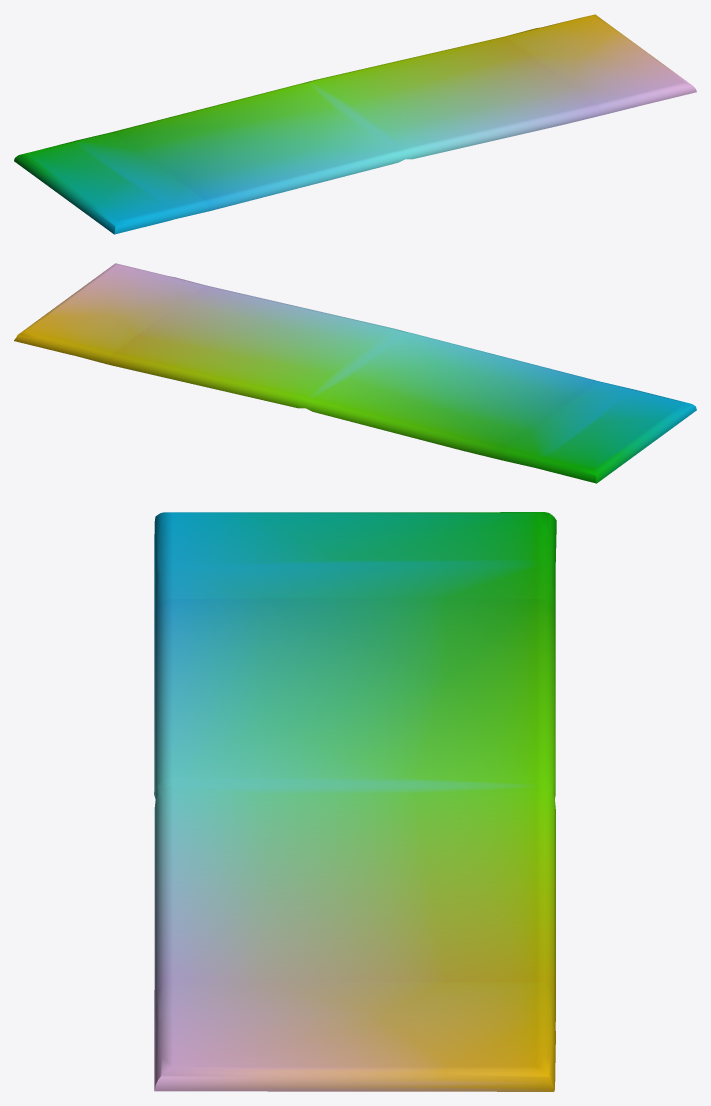
The model's file is SM_ROAD_37_10_0_37_meshed_inter.FBX.
3 renders of one model, top to bottom at view 1: azimuth 30°, elevation 25°; view 2: azimuth 150°, elevation 25°; view 3: azimuth 270°, elevation 25°, orthographic. The views are drawn at different scales.
Parts seen in each view (by area): view 1: SM_ROAD_37_10_0_37_meshed_inter; view 2: SM_ROAD_37_10_0_37_meshed_inter; view 3: SM_ROAD_37_10_0_37_meshed_inter.
Part boxes in pixels (<box>): SM_ROAD_37_10_0_37_meshed_inter: <box>14,14,696,234</box>; SM_ROAD_37_10_0_37_meshed_inter: <box>14,263,696,483</box>; SM_ROAD_37_10_0_37_meshed_inter: <box>154,512,556,1091</box>.
Size of the model in its own units: 3705 by 1108 by 67.05.
